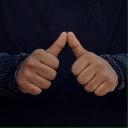hand: (14, 31, 67, 95), (66, 31, 118, 96)
